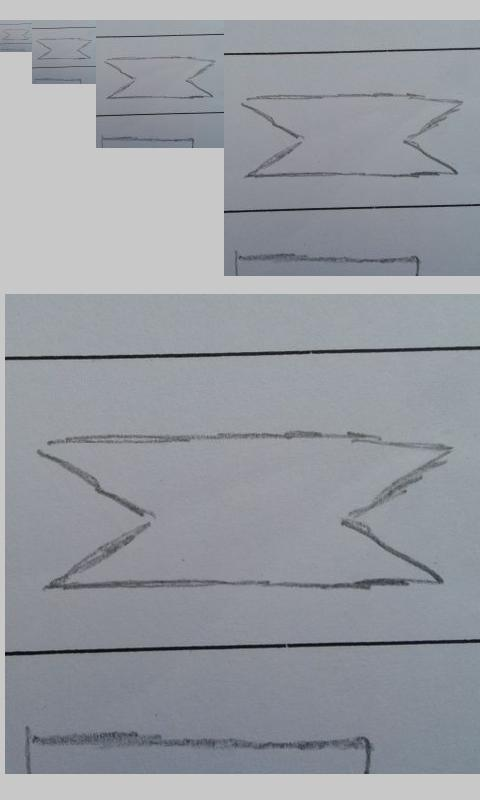edit_text: (36, 425, 451, 597), (240, 91, 462, 179), (103, 56, 215, 99), (36, 37, 92, 60), (2, 28, 30, 41)
